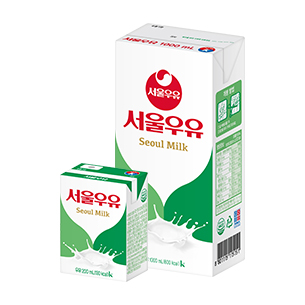milk: (114, 22, 245, 277), (58, 161, 149, 281)
